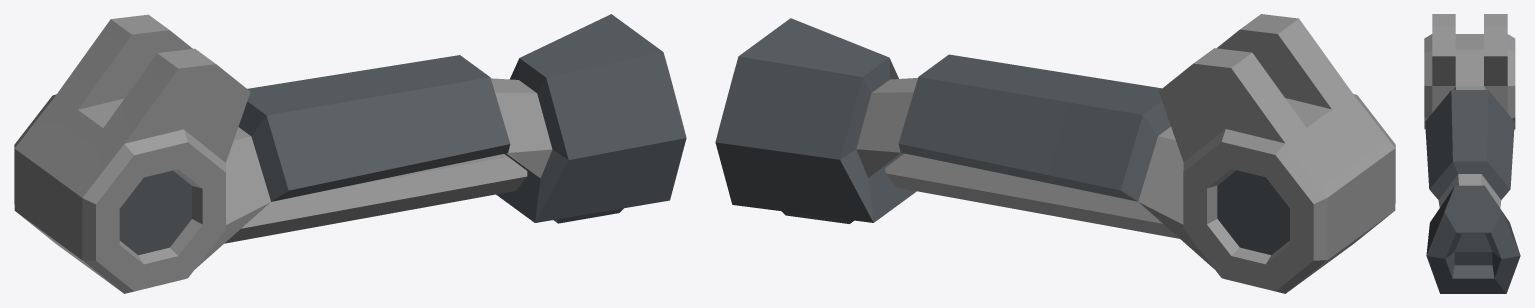
Rendered from Parts_02.fbx.
3 views of the same model, side by side, from view 1: azimuth 30°, elevation 25°; view 2: azimuth 150°, elevation 25°; view 3: azimuth 270°, elevation 25° (orthographic). The views are drawn at different scales.
Parts seen in each view (by area): view 1: Parts_02; view 2: Parts_02; view 3: Parts_02.
Boxes of the visible parts, x1=… form: Parts_02: x1=14, y1=14, x2=686, y2=293; Parts_02: x1=715, y1=14, x2=1395, y2=293; Parts_02: x1=1424, y1=14, x2=1520, y2=293.
Bounding box in the file's own units: 38.45 × 16.48 × 9.4.
